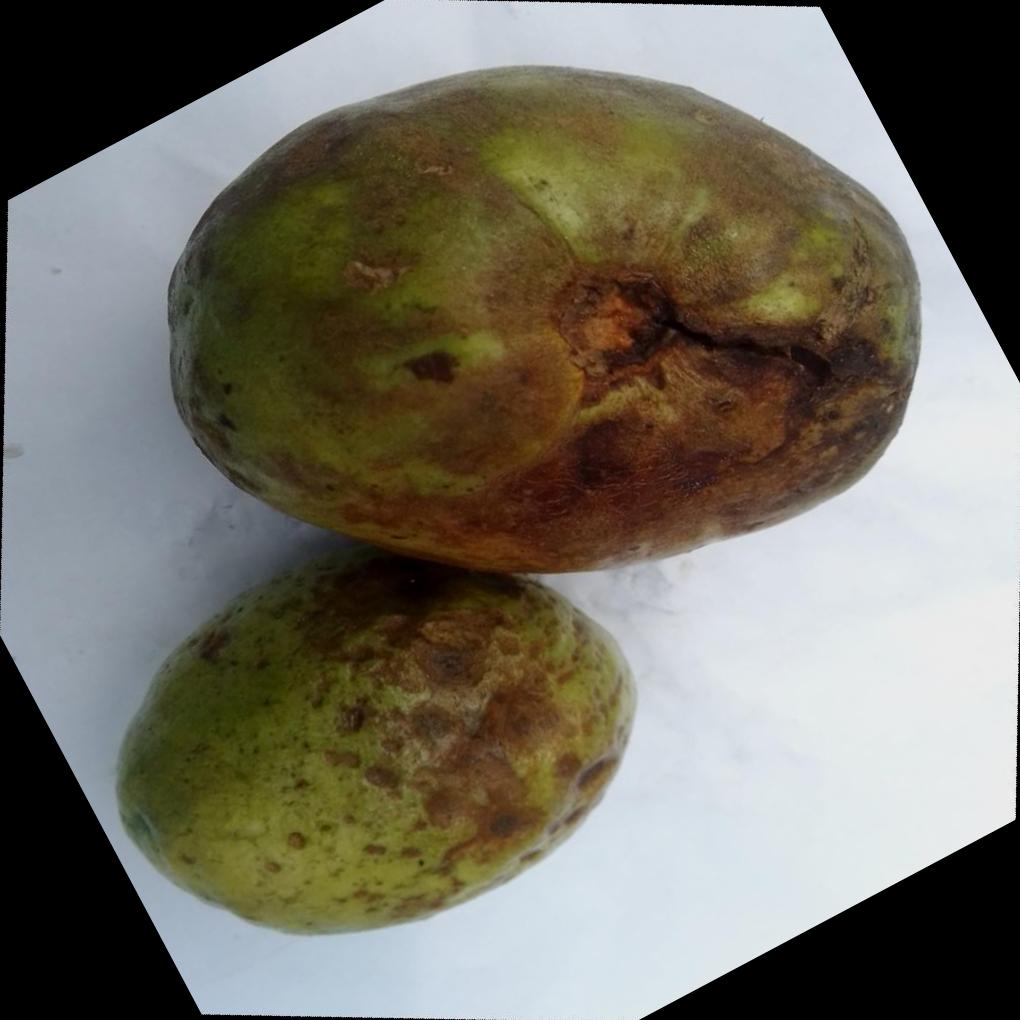FreshOrange: (110, 63, 920, 939)
